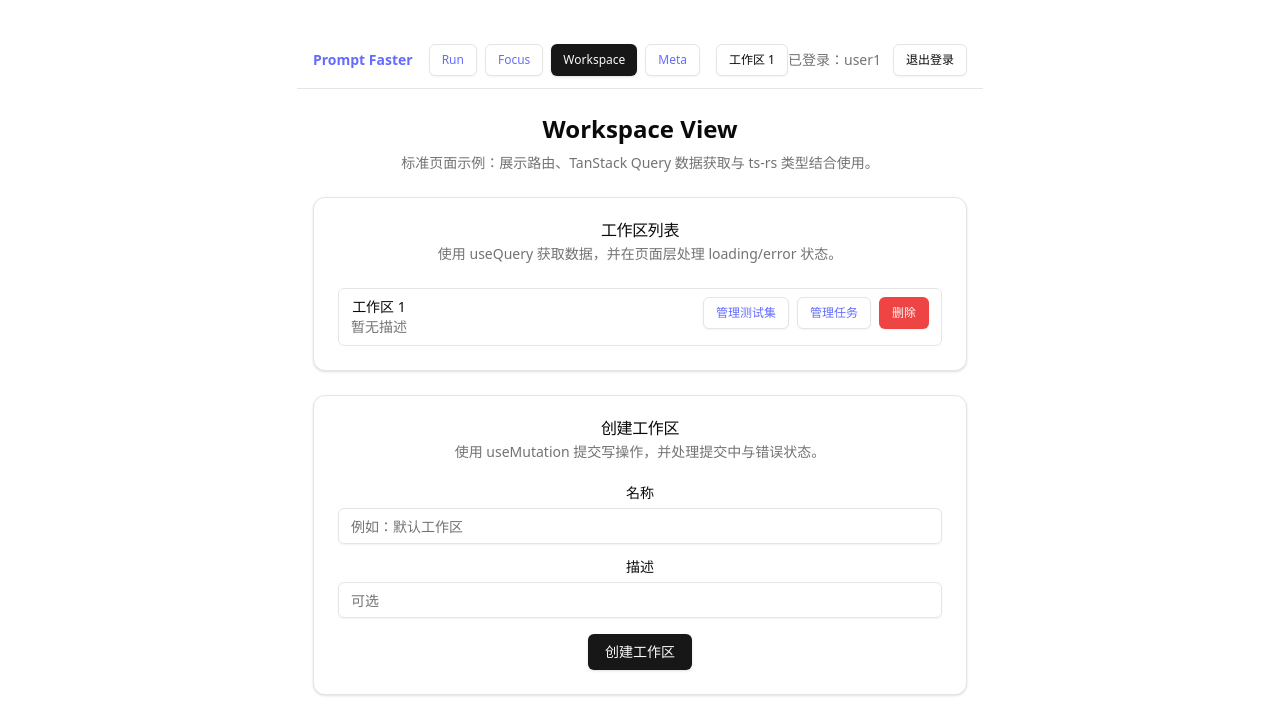
Test: App routes › 删除最后一个工作区：仍停留在 /workspace 并看到“创建工作区”入口（不出现空白页）
The image size is (1280, 720).
expect the text "工作区 1" is shown: met, box [351,297,407,317]
Step 1. Click the button with test id "workspace-delete-ws-1" → (904, 313), box [879,297,929,329]
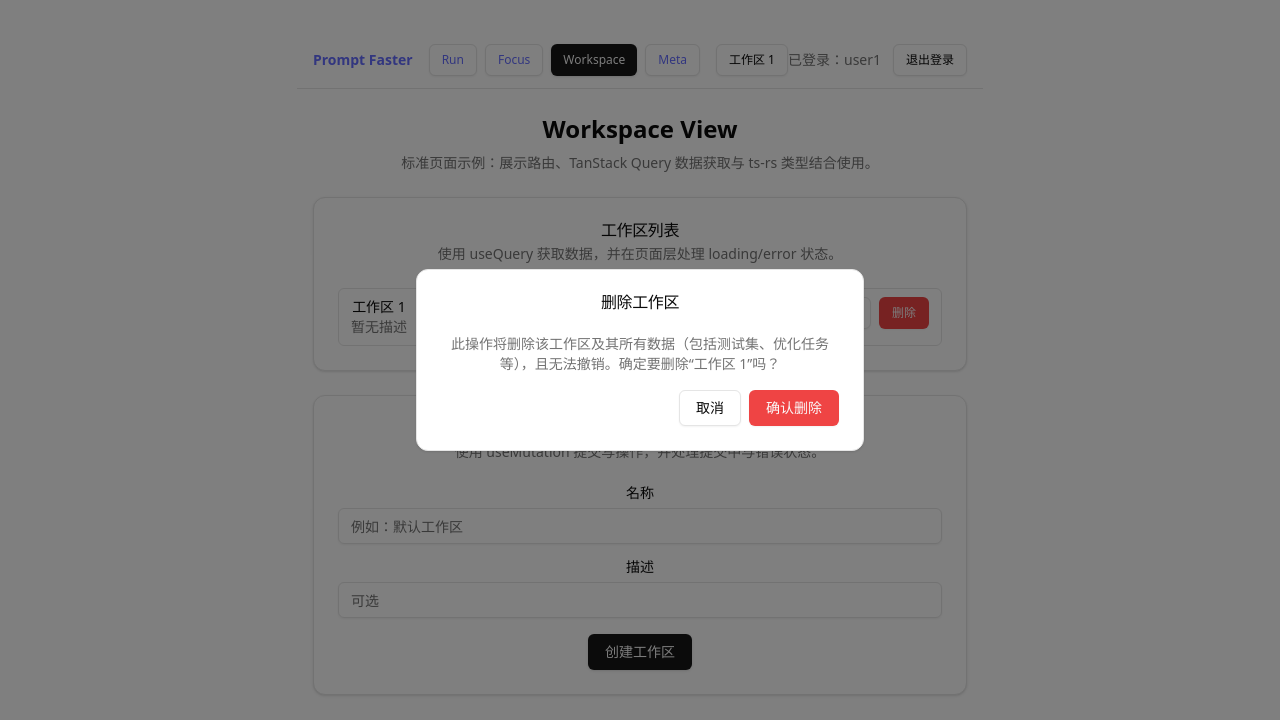
Step 2. Click the button with test id "workspace-delete-confirm" → (794, 408), box [749,390,839,426]
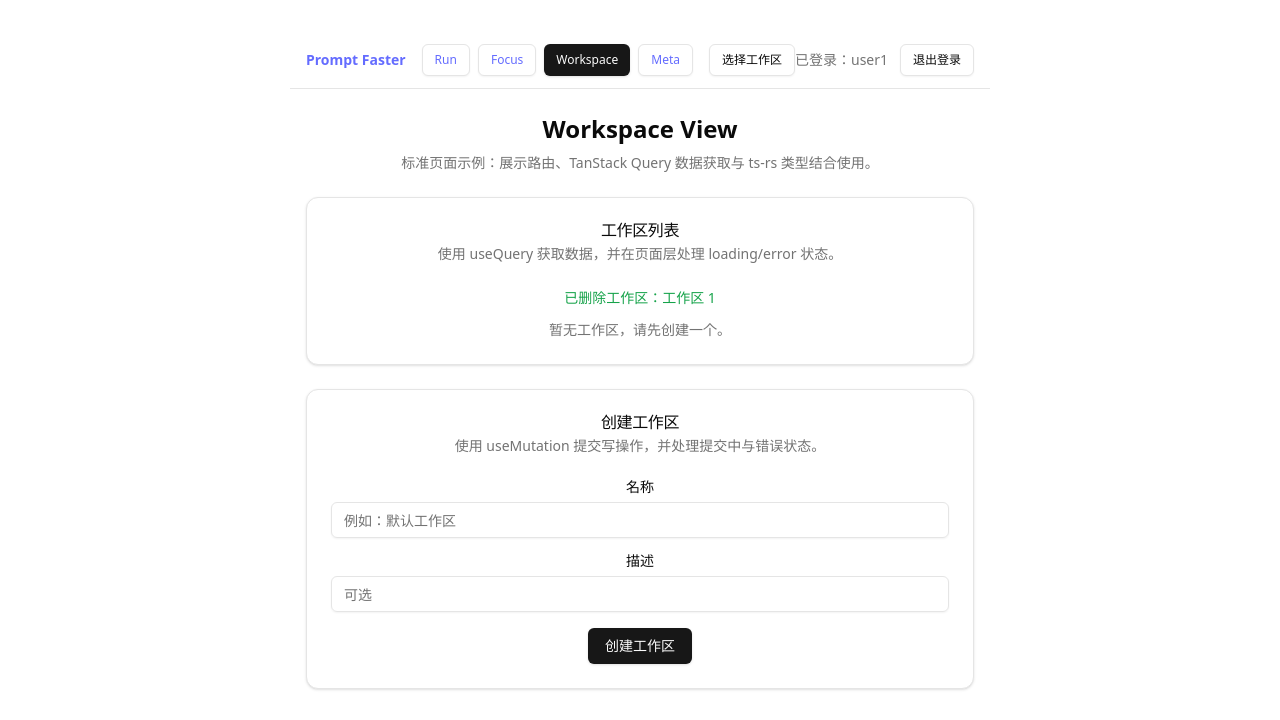
expect the button "创建工作区" is shown: met, box [588,628,692,664]
expect the text "暂无工作区，请先创建一个。" is shown: met, box [549,320,731,339]
